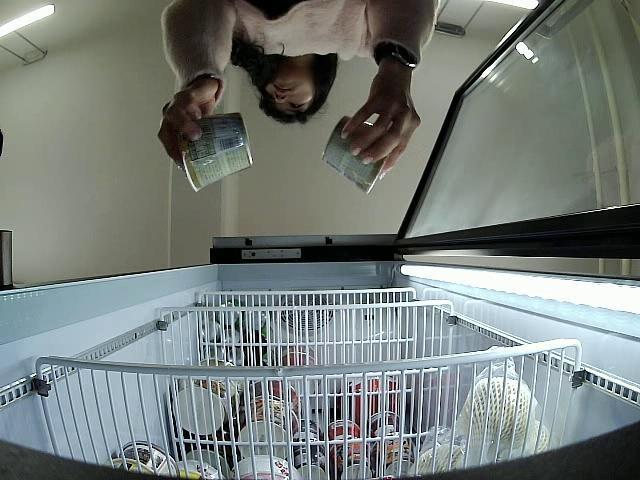04_chapagetti_S: (180, 112, 255, 192), (321, 116, 390, 193)
